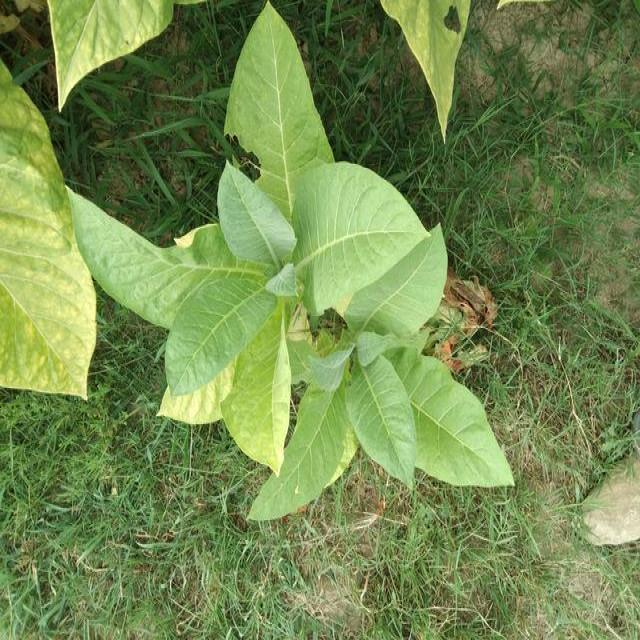crop: (166, 1, 513, 508)
